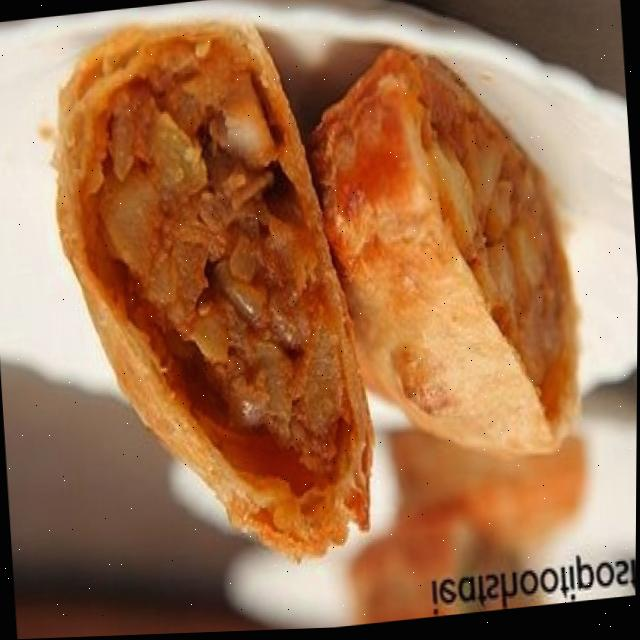炸货点心: (0, 0, 630, 596)
